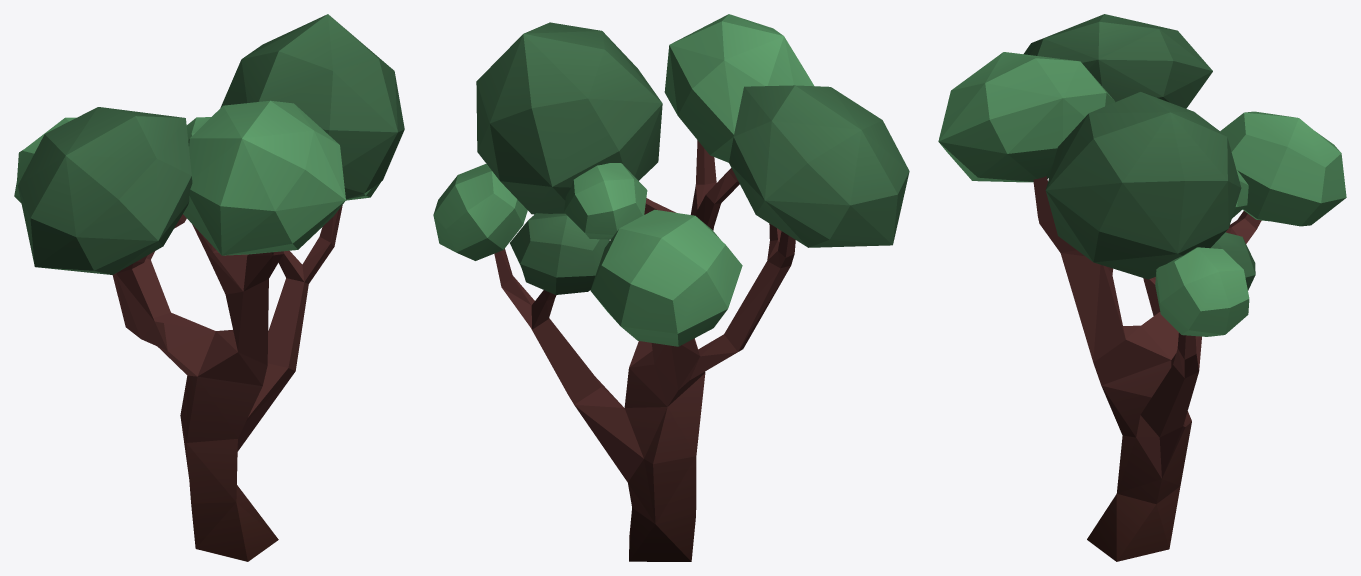
File: DarkTree3.fbx
3 renders of one model, left to right at view 1: azimuth 30°, elevation 25°; view 2: azimuth 150°, elevation 25°; view 3: azimuth 270°, elevation 25°, orthographic. The views are drawn at different scales.
Parts seen in each view (by area): view 1: DarkTree3; view 2: DarkTree3; view 3: DarkTree3.
Boxes of the visible parts, box(x1,y1,x2,y2) form: DarkTree3: box(14, 14, 404, 561); DarkTree3: box(433, 14, 909, 561); DarkTree3: box(938, 14, 1346, 561).
Size of the model in its own units: 384 by 450 by 342.
